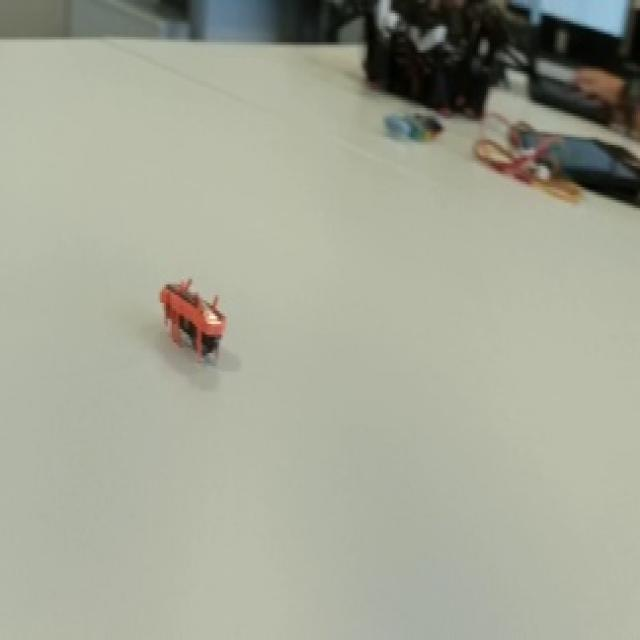7_NanoBug_Naranja: (134, 256, 258, 404)
